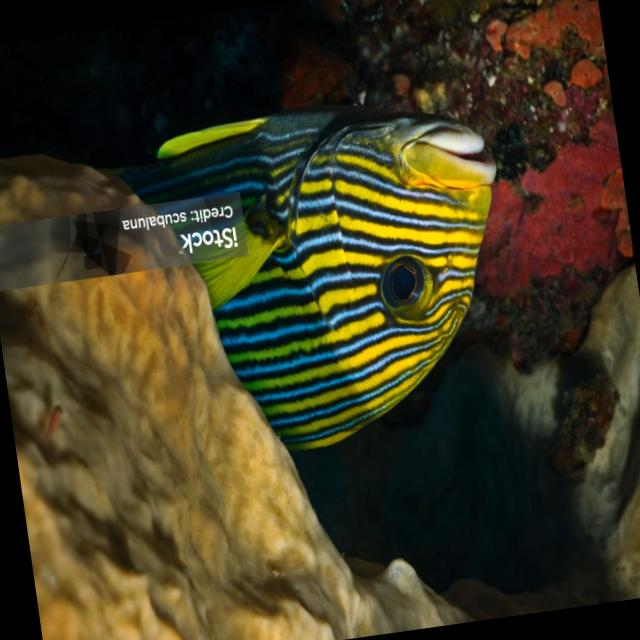RibbonedSweetlips: (95, 82, 533, 476)
